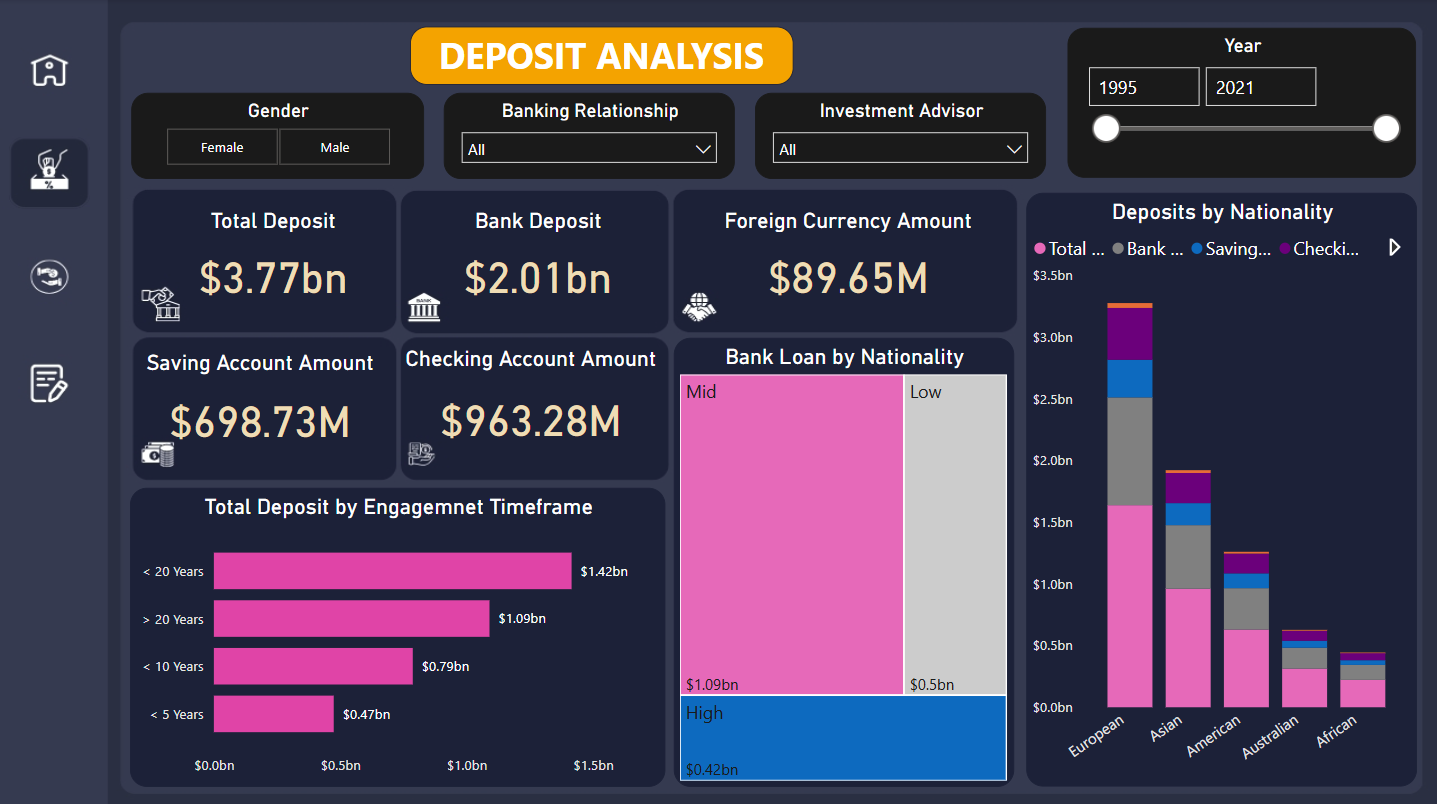

What the dashboard file says about the page in this screenshot:
{"tool":"powerbi","page":{"name":"Deposit","canvas":[1280,720],"ordinal":1},"visuals":[{"type":"actionButton","box":[8.6,31.5,70.2,63],"z":0},{"type":"actionButton","box":[8.6,123.2,70.2,63],"z":1000},{"type":"actionButton","box":[10,214.8,70.2,63],"z":2000},{"type":"actionButton","box":[8.6,309.3,70.2,63],"z":3000},{"type":"card","title":"Total Deposit","fields":{"Values":["DAX Measures.Total Deposit"]},"box":[127.4,185.9,232.7,106.6],"z":4000},{"type":"card","title":"Saving Account Amount","fields":{"Values":["DAX Measures.Savings Account"]},"box":[122.2,313.2,218.4,107.9],"z":5000},{"type":"card","title":"Bank Deposit","fields":{"Values":["DAX Measures.Bank Deposit"]},"box":[374.3,185.9,210.6,106.6],"z":6000},{"type":"card","title":"Foreign Currency Amount","fields":{"Values":["DAX Measures.Foreign Currency Account"]},"box":[639.5,185.9,232.7,106.6],"z":7000},{"type":"card","title":"Checking Account Amount","fields":{"Values":["DAX Measures.Checking Accounts"]},"box":[354.8,309.3,235.3,114.4],"z":8000},{"type":"treemap","title":"Bank Loan by Nationality","fields":{"Values":["DAX Measures.Bank Deposit"],"Details":["Clients - Banking.Income Band"]},"box":[600.5,301.5,302.8,400.3],"z":9000},{"type":"clusteredBarChart","title":"Total Deposit by Engagemnet Timeframe","fields":{"Category":["Clients - Banking.Engagement Timeframe"],"Y":["DAX Measures.Total Deposit"]},"box":[115.7,435.4,477,266.5],"z":10000},{"type":"columnChart","title":"Deposits by Nationality","fields":{"Category":["Clients - Banking.Nationality"],"Y":["DAX Measures.Total Deposit","DAX Measures.Bank Deposit","DAX Measures.Savings Account","DAX Measures.Checking Accounts","DAX Measures.Foreign Currency Account"]},"box":[913.7,172.9,348.3,529],"z":11000},{"type":"slicer","title":"Gender","fields":{"Values":["Gender.Gender"]},"box":[116.9,83.5,260.5,76.8],"z":12000},{"type":"slicer","title":"Banking Relationship","fields":{"Values":["Banking Relationship.Banking Relationship"]},"box":[395.2,83.5,259.4,76.8],"z":13000},{"type":"slicer","title":"Investment Advisor","fields":{"Values":["Investment Advisor.Investment Advisor"]},"box":[672.4,83.5,259.4,76.8],"z":14000},{"type":"slicer","title":"Year","fields":{"Values":["Clients - Banking.Joined Bank.Variation.Date Hierarchy.Year"]},"box":[950.1,26,310.6,133.9],"z":15000},{"type":"textbox","box":[365.6,24.1,341.4,51.9],"z":16000}]}

Visuals, with their boxes on the page's 1280x720 design canvas (x1, y1, x2, y2). These are canvas units, not pixel positions in the 1437x804 screenshot, which may show the page scaled, cropped or inside an application window:
actionButton: <region>9, 32, 79, 94</region>
actionButton: <region>9, 123, 79, 186</region>
actionButton: <region>10, 215, 80, 278</region>
actionButton: <region>9, 309, 79, 372</region>
"Total Deposit" card: <region>127, 186, 360, 292</region>
"Saving Account Amount" card: <region>122, 313, 341, 421</region>
"Bank Deposit" card: <region>374, 186, 585, 292</region>
"Foreign Currency Amount" card: <region>640, 186, 872, 292</region>
"Checking Account Amount" card: <region>355, 309, 590, 424</region>
"Bank Loan by Nationality" treemap: <region>600, 302, 903, 702</region>
"Total Deposit by Engagemnet Timeframe" clusteredBarChart: <region>116, 435, 593, 702</region>
"Deposits by Nationality" columnChart: <region>914, 173, 1262, 702</region>
"Gender" slicer: <region>117, 84, 377, 160</region>
"Banking Relationship" slicer: <region>395, 84, 655, 160</region>
"Investment Advisor" slicer: <region>672, 84, 932, 160</region>
"Year" slicer: <region>950, 26, 1261, 160</region>
textbox: <region>366, 24, 707, 76</region>
